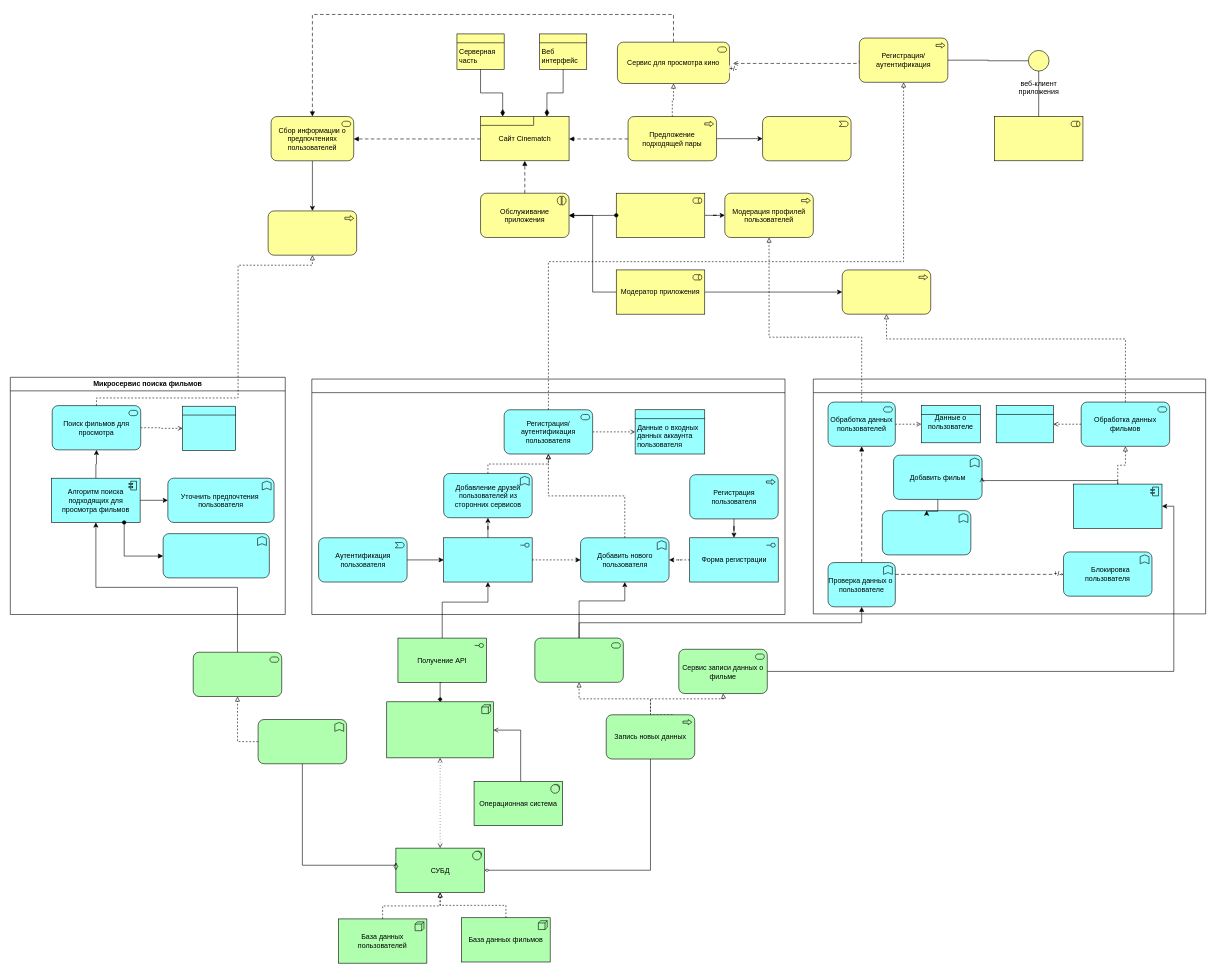
Some shapes in this 1216 by 973 pixel diagram are drawn without their labels. The shapes that lost their labels are listed below. From the top down, each one's box as (x1, y1, x2, y2) in pixels, then its label:
(762, 116, 851, 161): Подбор пары
(994, 116, 1083, 161): Пользователь приложения
(268, 210, 357, 255): Обработка предпочтений пользователей
(616, 193, 705, 237): Контент менеджер
(842, 269, 931, 314): Пополнение списка фильмов
(182, 406, 236, 450): Данные о подобранных фильмах
(996, 405, 1053, 443): Данные о фильме
(311, 378, 785, 614): Микросервис аунтефикации
(813, 378, 1206, 614): Микросервис модерации контента
(1073, 484, 1162, 528): Алгоритм для встраивания новых фильмов в бд
(882, 510, 971, 555): Обновить данные о фильме
(163, 533, 269, 578): Найти подходящий фильм для просмотра парой пользователей
(443, 537, 532, 582): Строение API логина для аутентификации
(193, 652, 282, 696): Сервис получения данных
(534, 637, 623, 682): Сервис записи данных о пользователе
(258, 719, 347, 764): Обеспечение доступа к данным
(386, 701, 494, 758): Сервер приложения
